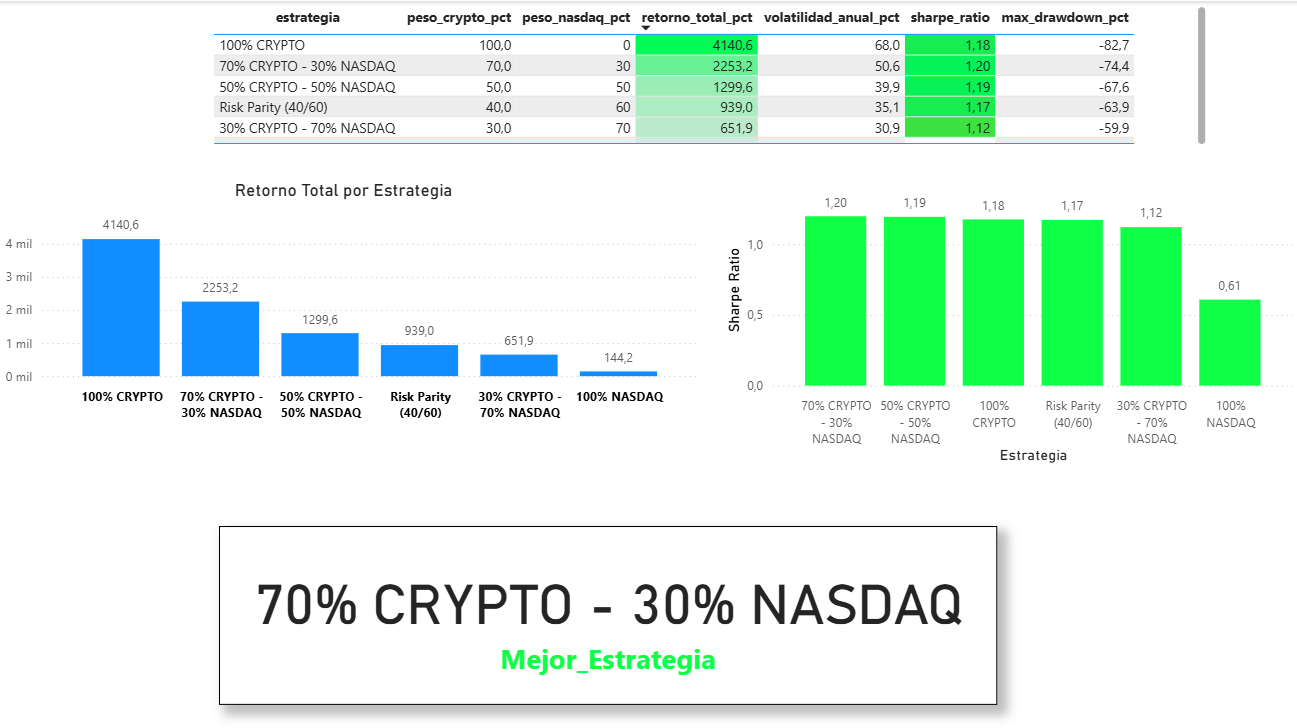

The page's visual inventory and layout, read from the dashboard file:
{"tool":"powerbi","page":{"name":"ESTRATEGIAS","canvas":[1280,720],"ordinal":3},"visuals":[{"type":"tableEx","fields":{"Values":["04_estrategias.estrategia","04_estrategias.peso_crypto_pct","04_estrategias.peso_nasdaq_pct","04_estrategias.retorno_total_pct","04_estrategias.volatilidad_anual_pct","04_estrategias.sharpe_ratio","04_estrategias.max_drawdown_pct"]},"box":[218.4,0,976.2,163.2],"z":0},{"type":"clusteredColumnChart","title":"Retorno Total por Estrategia","fields":{"Category":["04_estrategias.estrategia"],"Y":["Sum(04_estrategias.retorno_total_pct)"]},"box":[0,174.1,701.6,250.8],"z":1000},{"type":"clusteredColumnChart","fields":{"Category":["04_estrategias.estrategia"],"Y":["Sum(04_estrategias.sharpe_ratio)"]},"box":[716.8,174.1,563.2,280],"z":2000},{"type":"card","fields":{"Values":["04_estrategias.Mejor_Estrategia"]},"box":[229.2,510.3,756.8,174.1],"z":3000}]}

Visuals, with their boxes in screenshot pixels (x1, y1, x2, y2), scaled from the page's 1280x720 canvas onto the 1297x728 screenshot:
tableEx - 04_estrategias.estrategia x 04_estrategias.peso_crypto_pct: [221,0,1210,165]
"Retorno Total por Estrategia" clusteredColumnChart: [0,176,711,430]
clusteredColumnChart - 04_estrategias.estrategia x Sum(04_estrategias.sharpe_ratio): [726,176,1296,459]
card - 04_estrategias.Mejor_Estrategia: [232,516,999,692]
